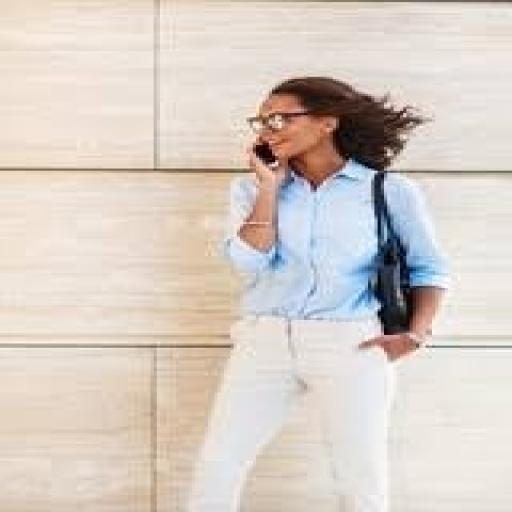calling: (182, 75, 454, 510)
